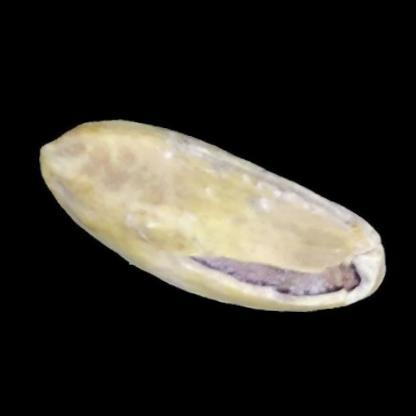pistachio: (35, 117, 389, 317)
